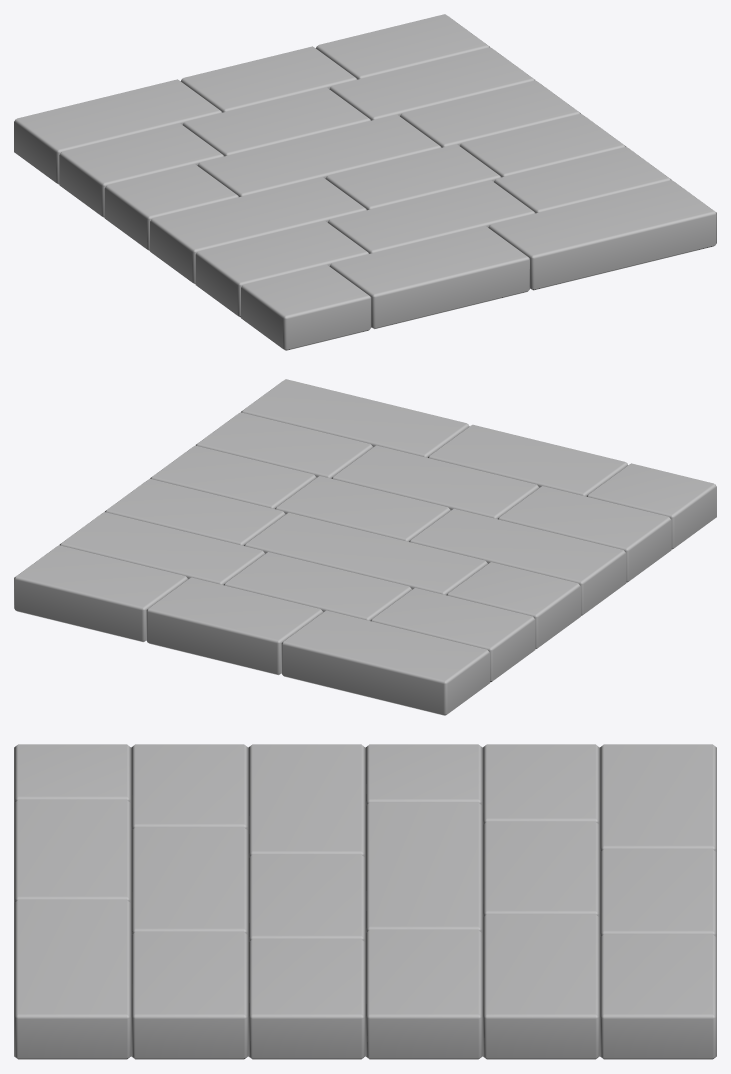
The model's file is City_12_Base_1.glb.
3 renders of one model, top to bottom at view 1: azimuth 30°, elevation 25°; view 2: azimuth 150°, elevation 25°; view 3: azimuth 270°, elevation 25°, orthographic. The views are drawn at different scales.
Parts seen in each view (by area): view 1: City_12_Base_1; view 2: City_12_Base_1; view 3: City_12_Base_1.
Part boxes in pixels (x1,y1,x2,y2): City_12_Base_1: [14, 14, 716, 350]; City_12_Base_1: [14, 379, 716, 715]; City_12_Base_1: [14, 744, 716, 1059].
Bounding box in the file's own units: 8.04 × 0.6294 × 8.74.
1 material, 1 textured.
